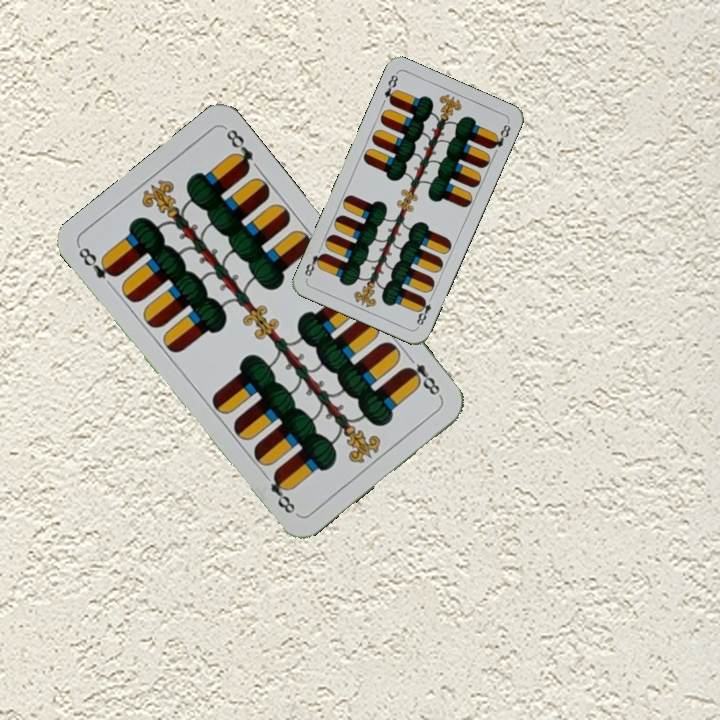E8: (400, 350, 444, 401), (74, 242, 121, 281), (412, 291, 436, 330), (380, 69, 401, 107)
